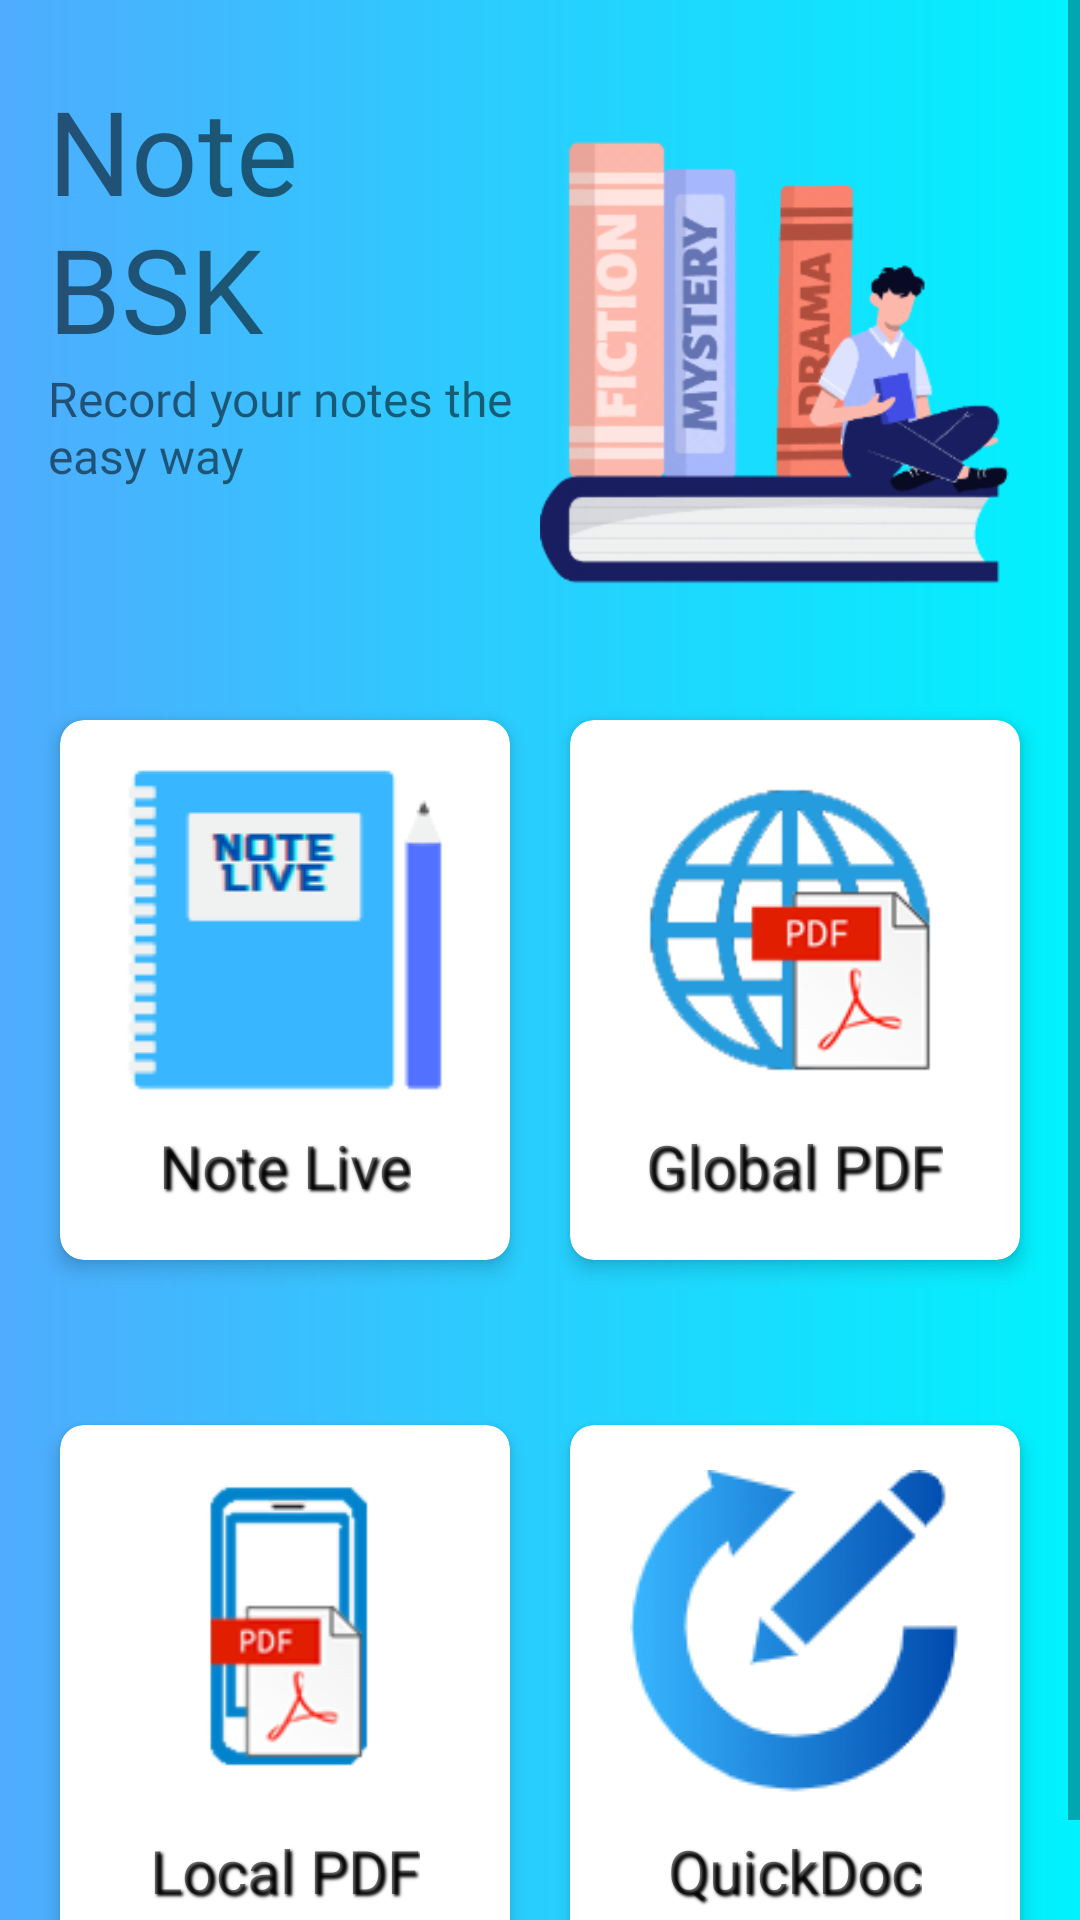

Locate icon controls on the screen. Image size 1080x1920, boxes as (x1, y1, x2, y2).
editdoc: (630, 1470, 958, 1792)
